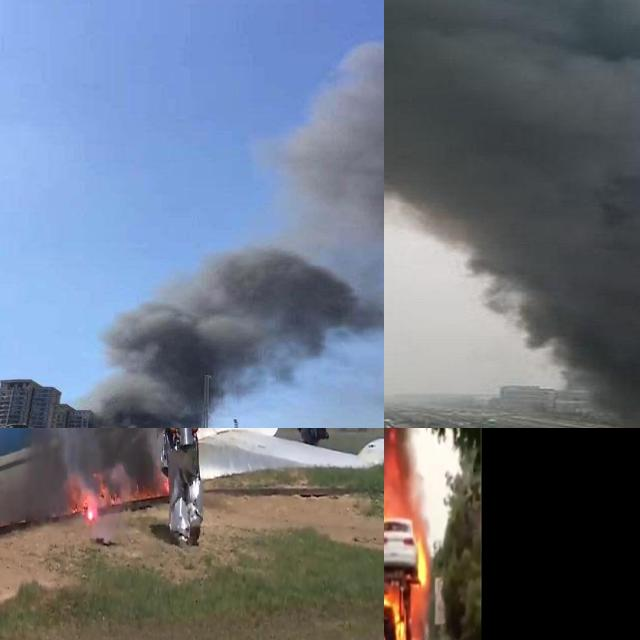fire: (384, 444, 429, 640), (64, 465, 170, 519)
smoke: (80, 21, 384, 428), (384, 0, 640, 428)
